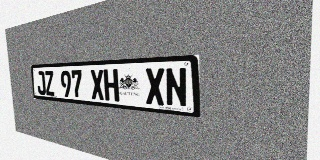7: (71, 70, 83, 98)
9: (60, 70, 72, 97)
H: (103, 69, 119, 102)
J: (36, 71, 46, 95)
N: (165, 67, 188, 108)
X: (145, 68, 165, 106), (90, 69, 105, 100)
Z: (44, 71, 55, 96)
